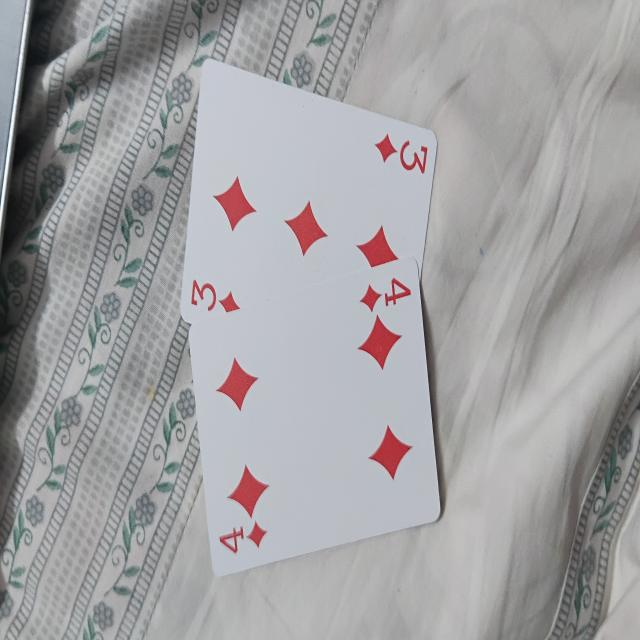3D: (178, 53, 438, 328)
4D: (188, 259, 439, 583)
